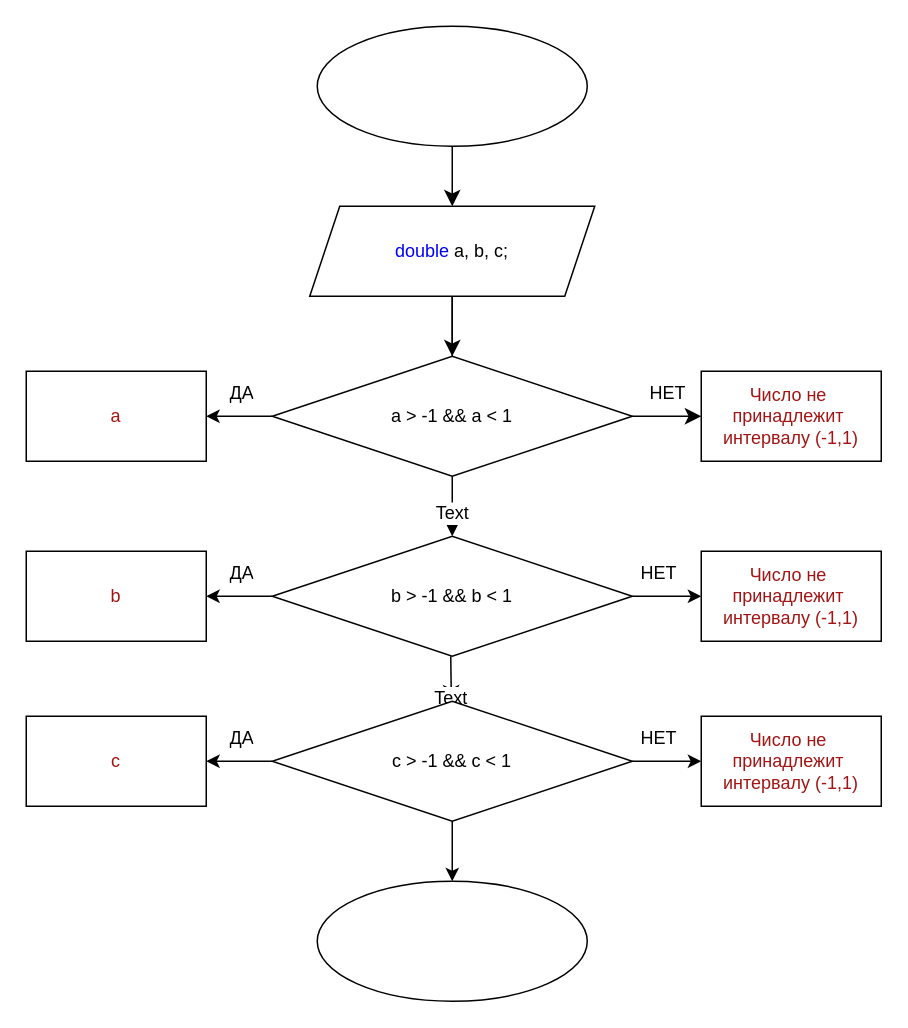
The diagram is 908 pixels wide and 1028 high, and some of its shapes have lost their labels. Each missing label, with the centre of its shape:
"Конец" goes at [451,940].
"Начало" goes at [451,85].
